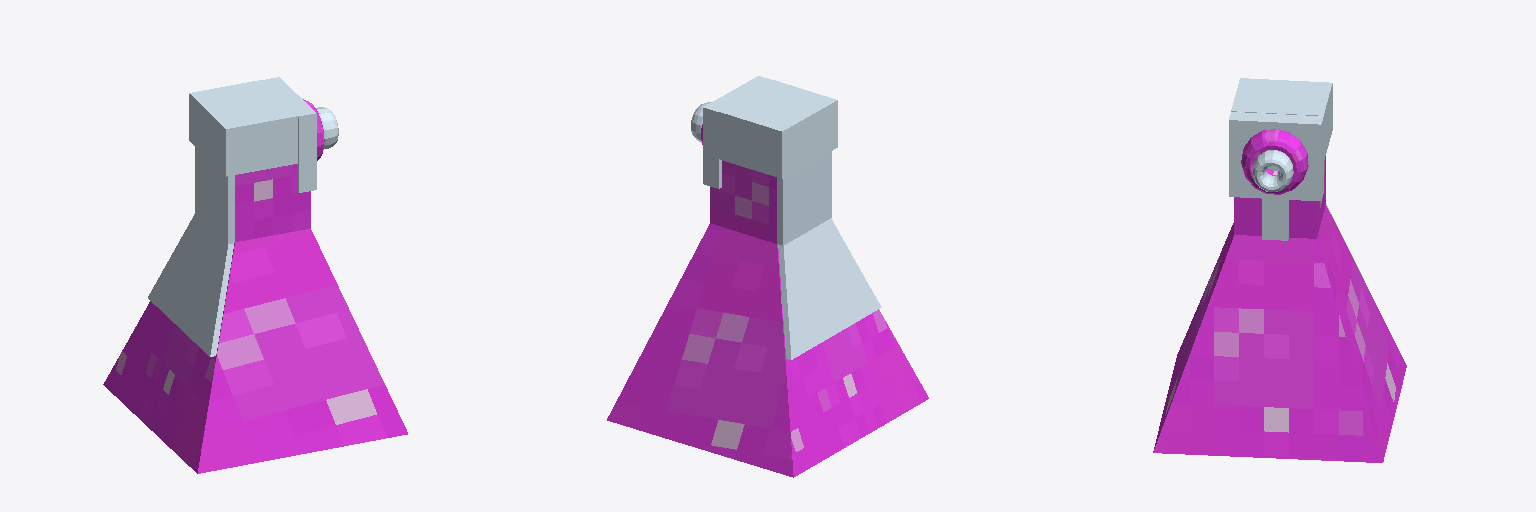
The picture shows the model from 3 angles: view 1: azimuth 30°, elevation 25°; view 2: azimuth 150°, elevation 25°; view 3: azimuth 270°, elevation 25°; orthographic projection.
Visible parts, largest first — view 1: polySurface10; view 2: polySurface10; view 3: polySurface10.
Part boxes in pixels (x1,y1,x2,y2): polySurface10: (103,77,407,473); polySurface10: (607,76,928,477); polySurface10: (1153,78,1406,462).
Size of the model in its own units: 1.55 by 2.07 by 1.55.
Materials: 2 (2 with a texture image).